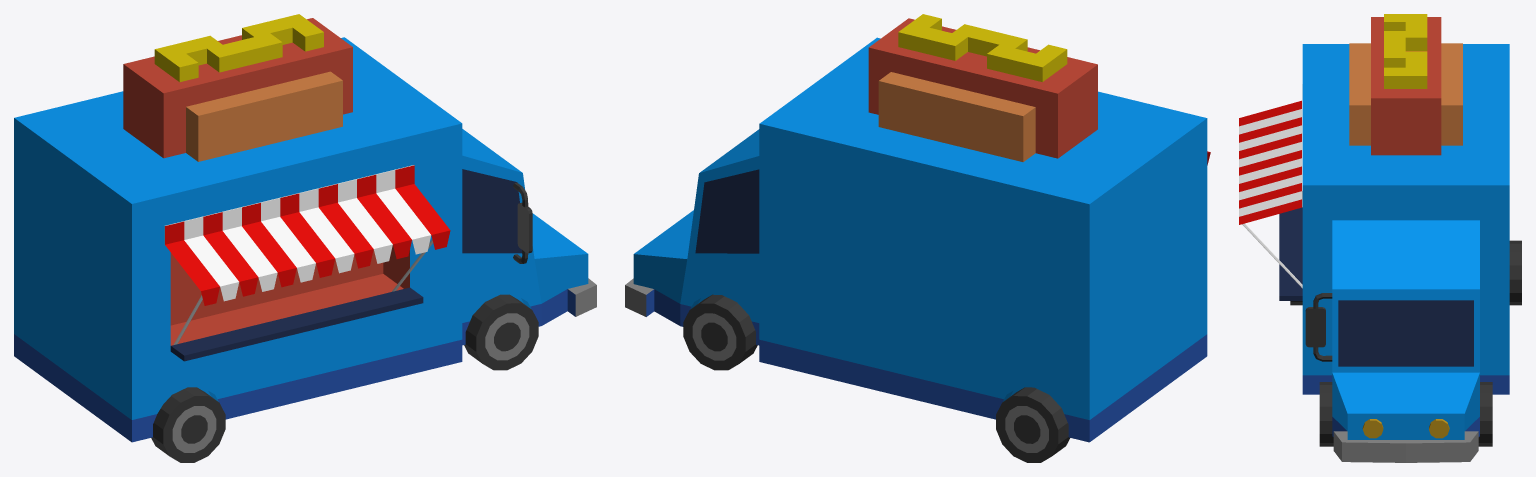
The model's file is D1_HOTDOGTRUCK.fbx.
3 views of the same model, side by side, from view 1: azimuth 30°, elevation 25°; view 2: azimuth 150°, elevation 25°; view 3: azimuth 270°, elevation 25° (orthographic). The views are drawn at different scales.
Parts seen in each view (by area): view 1: D1_HOTDOG_TRUCK; view 2: D1_HOTDOG_TRUCK; view 3: D1_HOTDOG_TRUCK.
Boxes of the visible parts, <box> form: D1_HOTDOG_TRUCK: <box>14,14,596,462</box>; D1_HOTDOG_TRUCK: <box>625,14,1210,462</box>; D1_HOTDOG_TRUCK: <box>1239,14,1521,462</box>.
Size of the model in its own units: 555 by 376 by 316.
